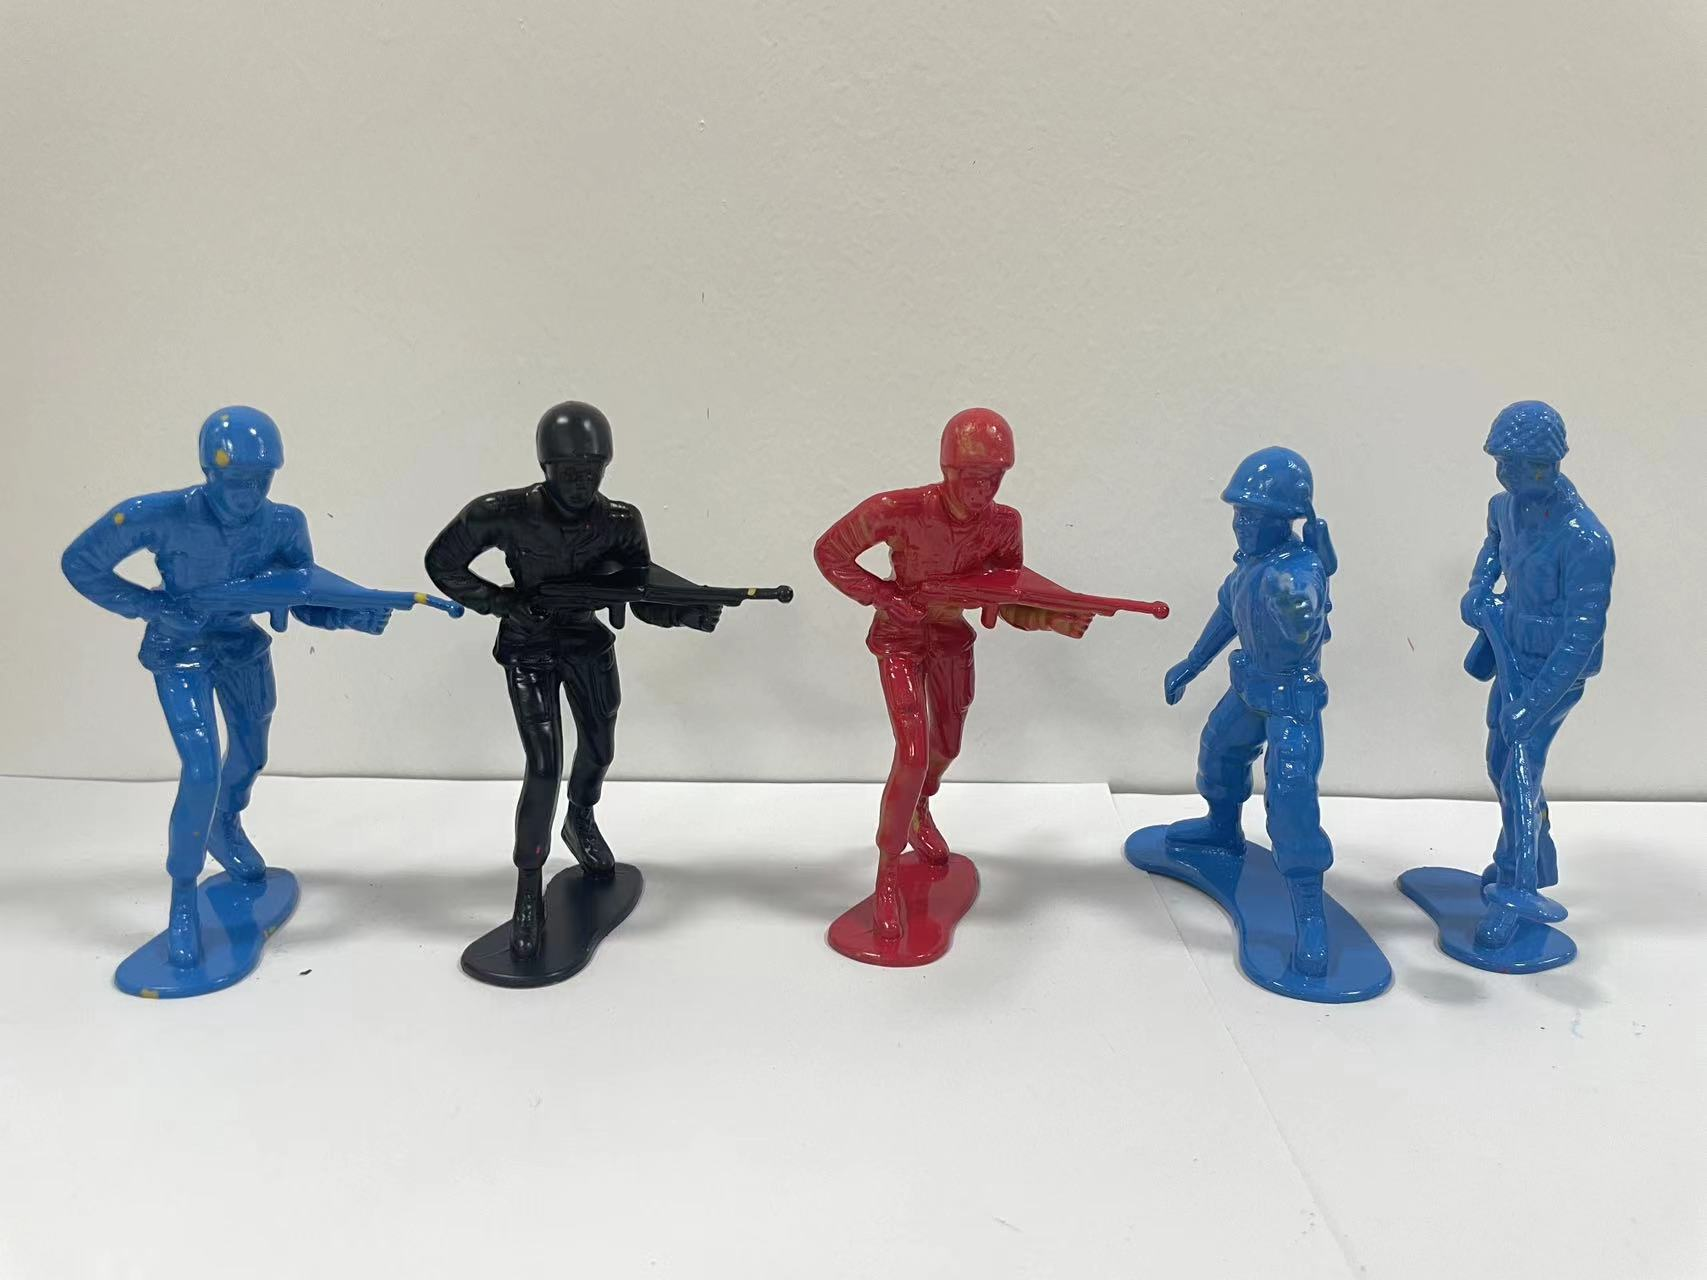black: (423, 376, 784, 1026)
blue: (32, 374, 392, 1059), (1395, 372, 1671, 1026), (1125, 418, 1405, 1033)
red: (796, 389, 1140, 1041)
